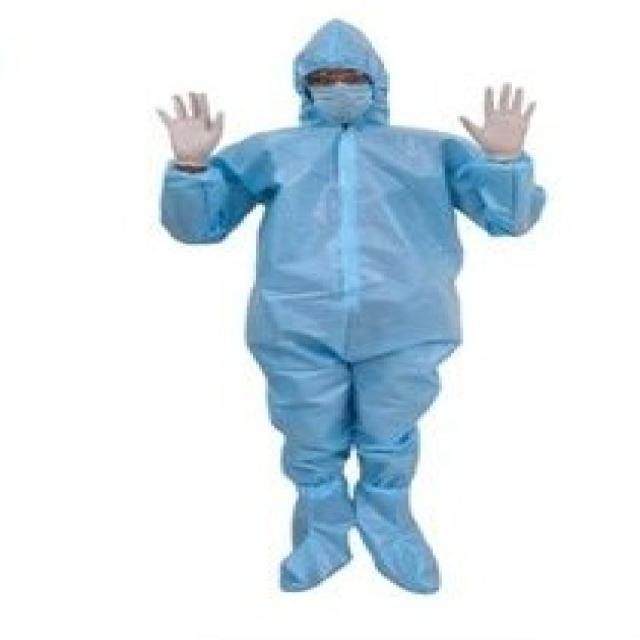Coverall: (150, 11, 548, 597)
Gloves: (152, 87, 232, 173), (454, 80, 540, 159)
Mask: (299, 82, 384, 121)
